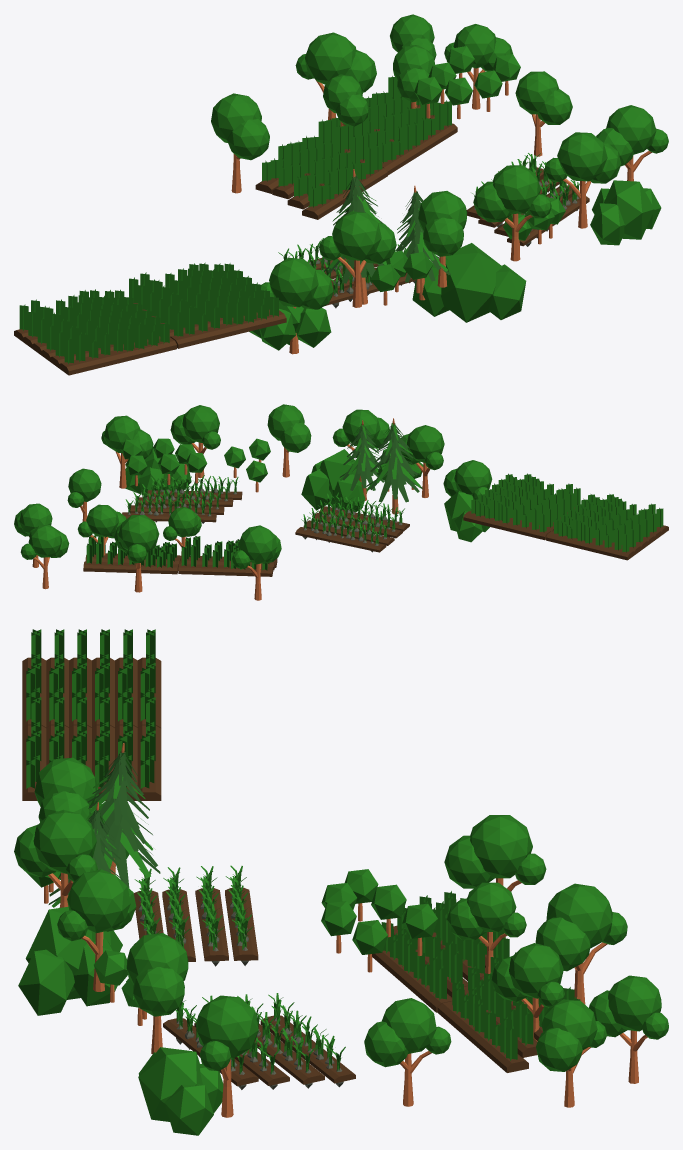
The model's file is solution_28_urban_farming_2.fbx.
The picture shows the model from 3 angles, top to bottom: view 1: azimuth 30°, elevation 25°; view 2: azimuth 150°, elevation 25°; view 3: azimuth 270°, elevation 25°; orthographic projection. The views are drawn at different scales.
Visible parts, largest first — view 1: solution_28_urban_farming_2; view 2: solution_28_urban_farming_2; view 3: solution_28_urban_farming_2.
Boxes of the visible parts, x1,y1,x2,y2 form: solution_28_urban_farming_2: (14, 14, 668, 375); solution_28_urban_farming_2: (14, 404, 668, 600); solution_28_urban_farming_2: (14, 629, 668, 1135).
Bounding box in the file's own units: 5638 × 1243 × 3741.
